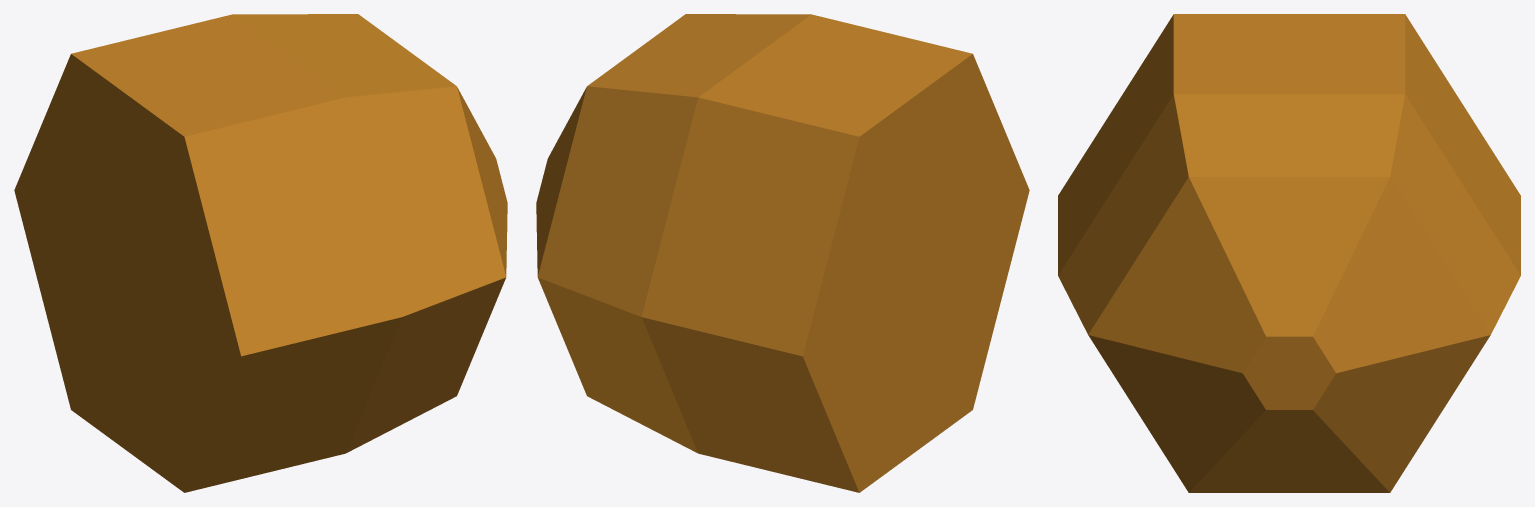
File: Bullet_07.fbx
3 renders of one model, left to right at view 1: azimuth 30°, elevation 25°; view 2: azimuth 150°, elevation 25°; view 3: azimuth 270°, elevation 25°, orthographic.
Parts seen in each view (by area): view 1: Bullet_07; view 2: Bullet_07; view 3: Bullet_07.
Part boxes in pixels (x1,y1,x2,y2): Bullet_07: (14, 14, 507, 492); Bullet_07: (536, 14, 1029, 492); Bullet_07: (1058, 14, 1520, 492).
Size of the model in its own units: 0.0321 by 0.0306 by 0.0353.
